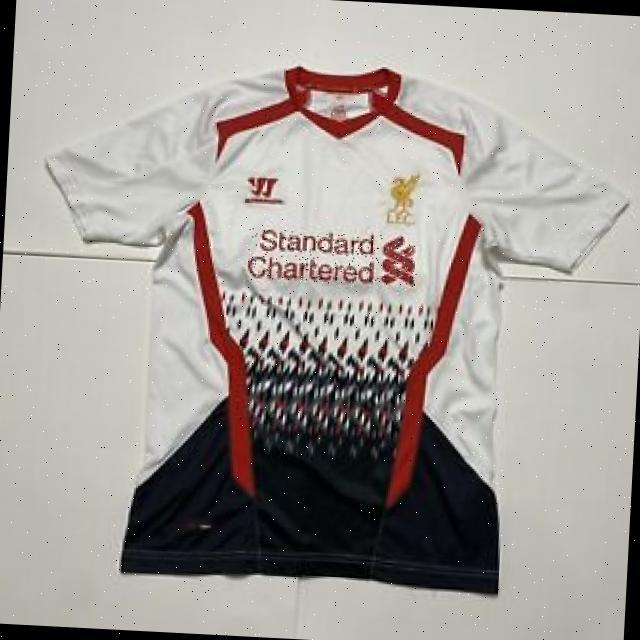Standard Chartered: (246, 228, 420, 288)
